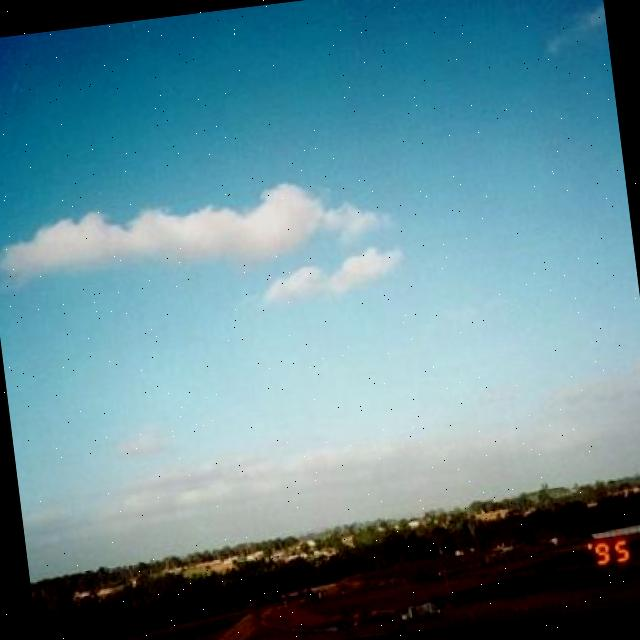St: (1, 152, 432, 362)
